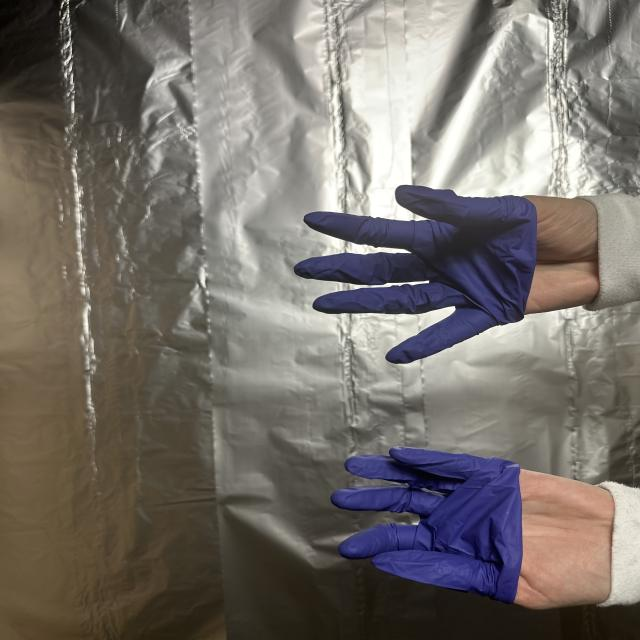glove_partial: (292, 181, 606, 362), (332, 444, 624, 612)
